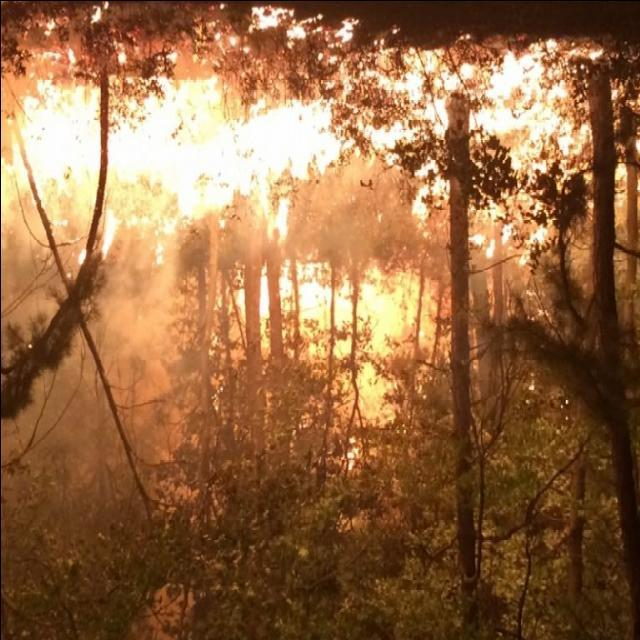Fire: (6, 48, 568, 235), (234, 264, 443, 466)
